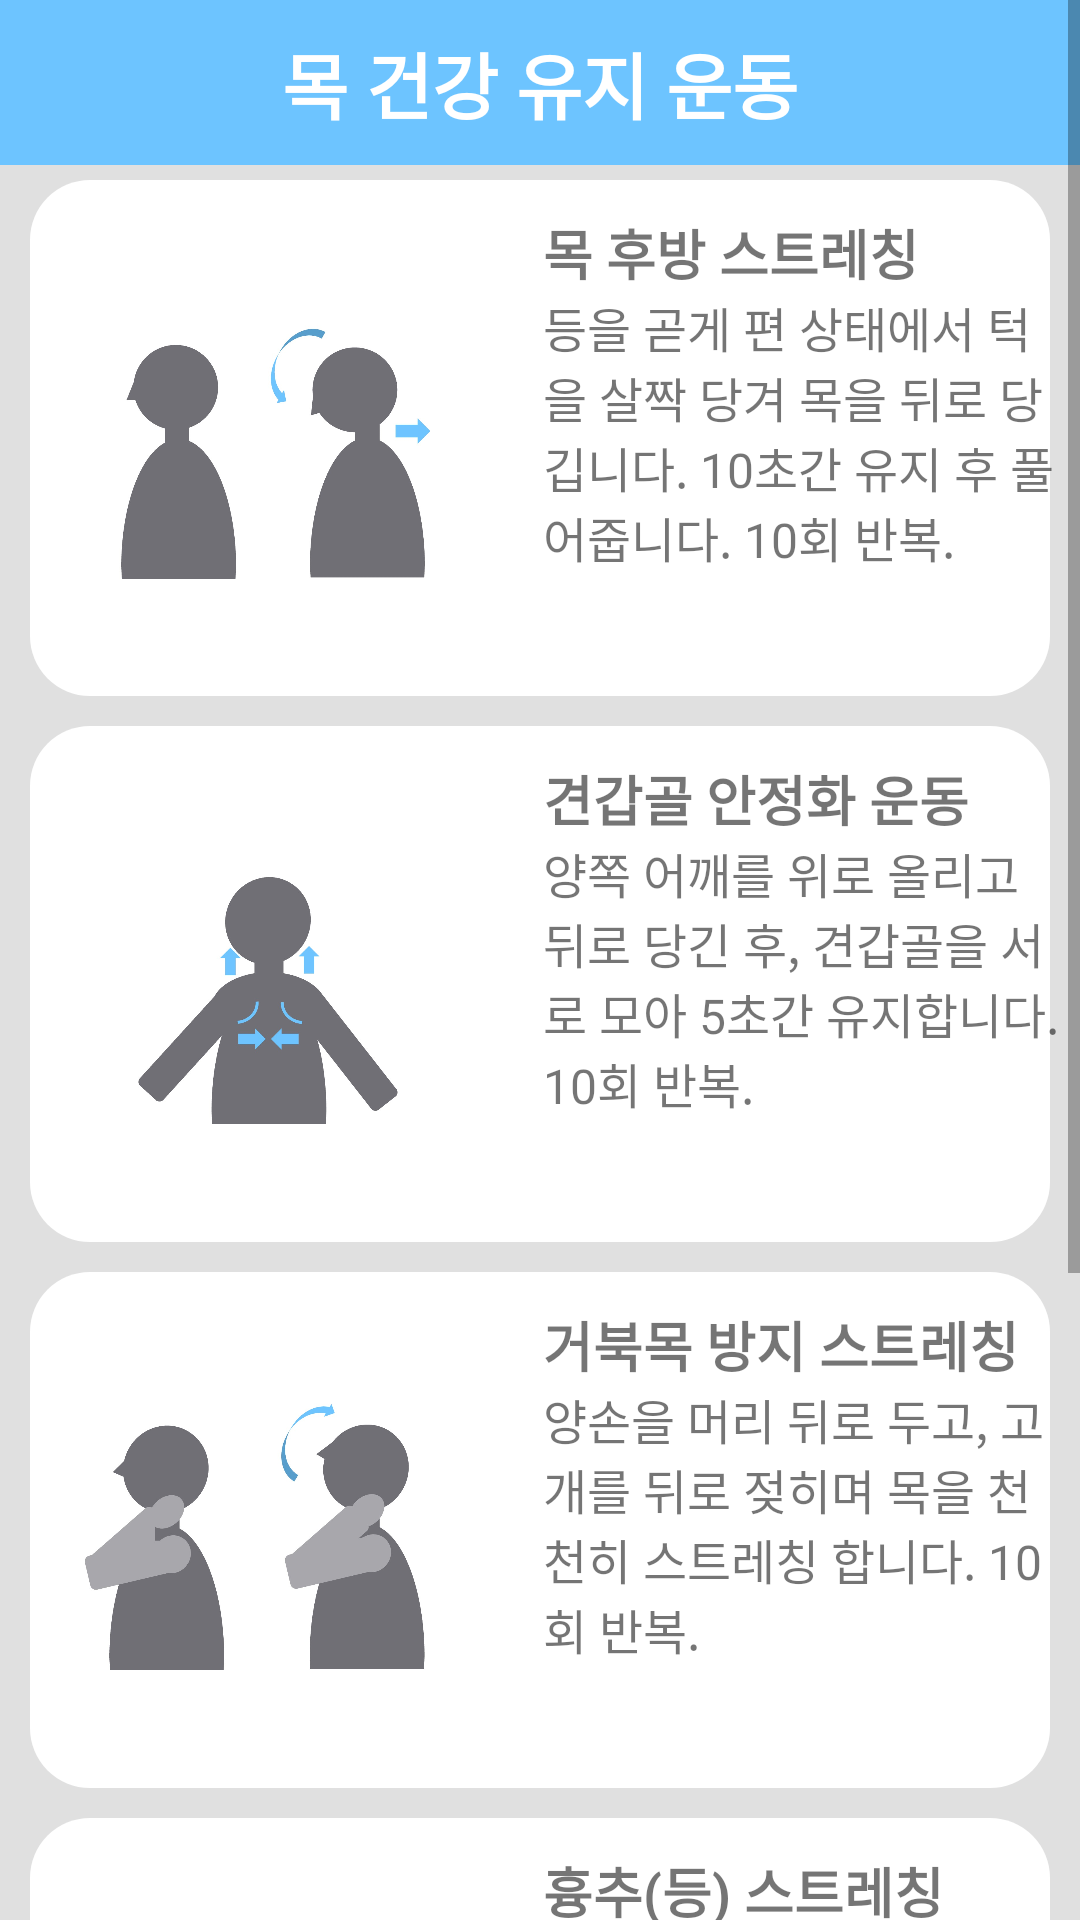

Where to tap for icons on this 1080*1920 app screen, as point (x, y):
Exercise 1 Image: point (275, 454)
Exercise 2 Image: point (268, 1000)
Exercise 3 Image: point (255, 1537)
